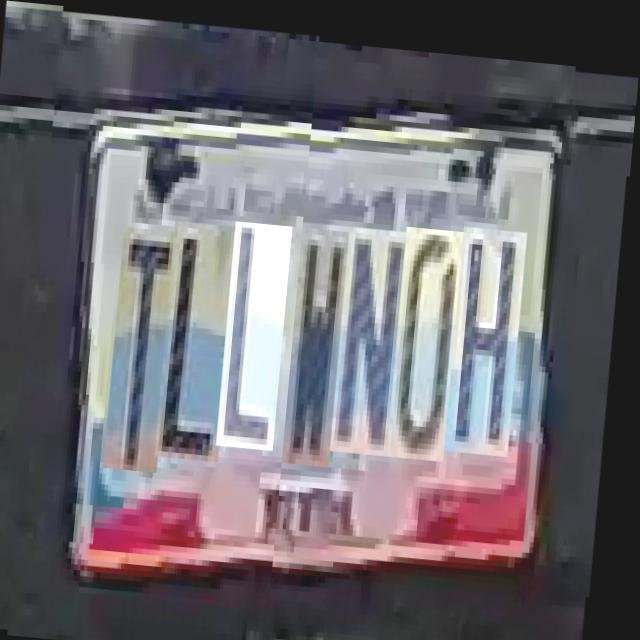0: (394, 213, 468, 447)
H: (452, 212, 531, 440)
L: (162, 217, 242, 457), (224, 216, 296, 445)
N: (338, 213, 417, 442)
T: (112, 224, 182, 469)
W: (291, 216, 354, 454)
